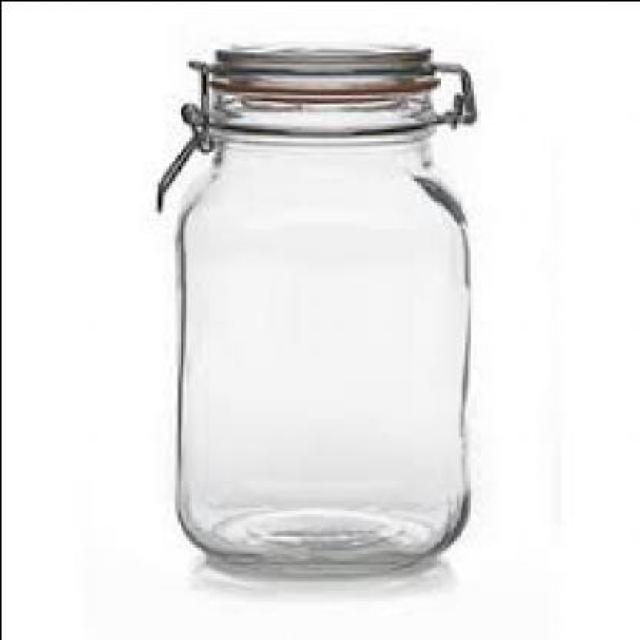GLASS: (174, 43, 475, 566)
METAL: (158, 51, 211, 208)
